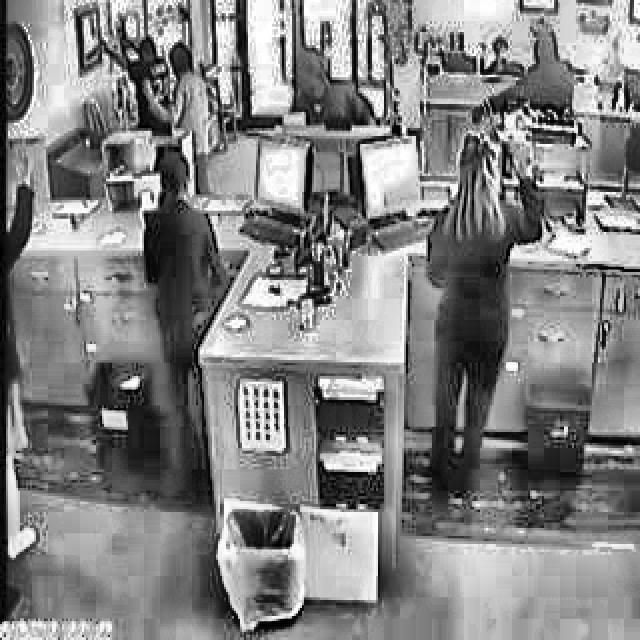robbery: (417, 129, 548, 253), (91, 16, 215, 124), (278, 34, 382, 139), (476, 24, 578, 126)
